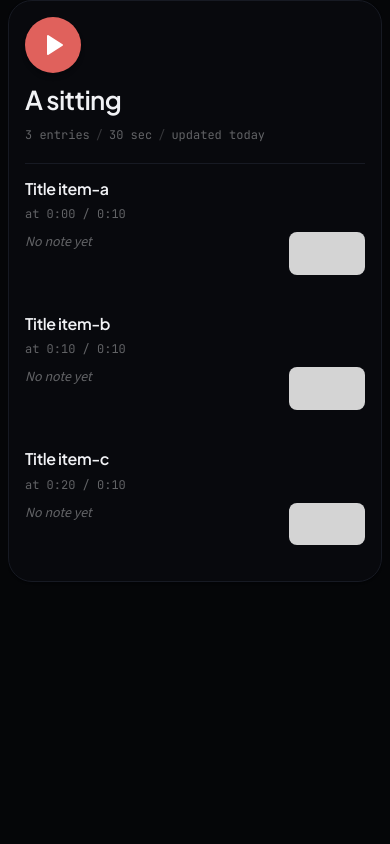
it: SharedCollection playback › offers no Previous on the first entry and no Next on the last
Click the button named "Play the whole collection": [53, 45] box [25, 17, 81, 73]
Wait 2 ms
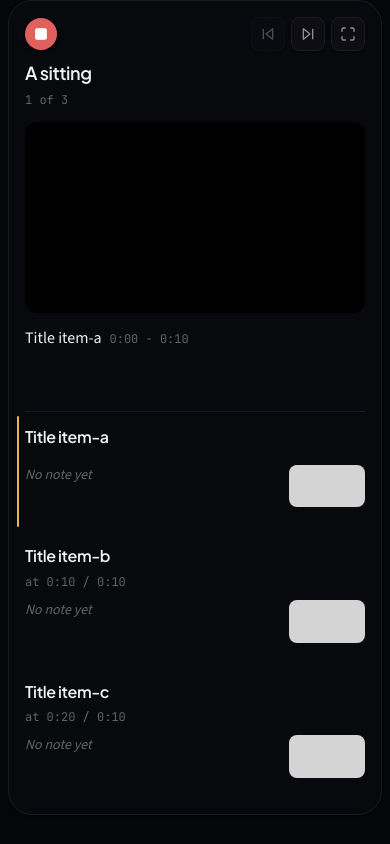
Result: the text "1 of 3" is shown at [25, 92, 68, 108]
Click the button named "Next entry": [308, 34] box [291, 17, 325, 51]
Wait 1 ms
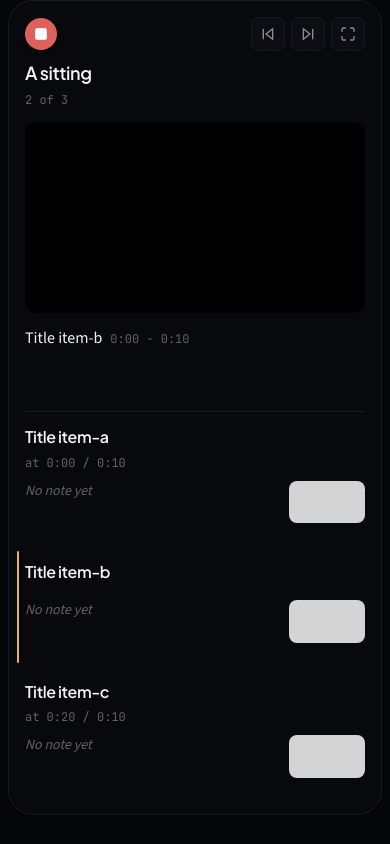
Click the button named "Next entry": [308, 34] box [291, 17, 325, 51]
Wait 1 ms
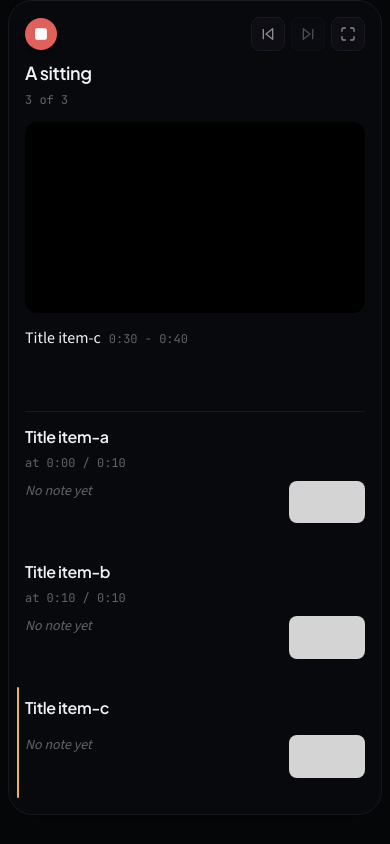
Result: the text "3 of 3" is shown at [25, 92, 68, 108]
